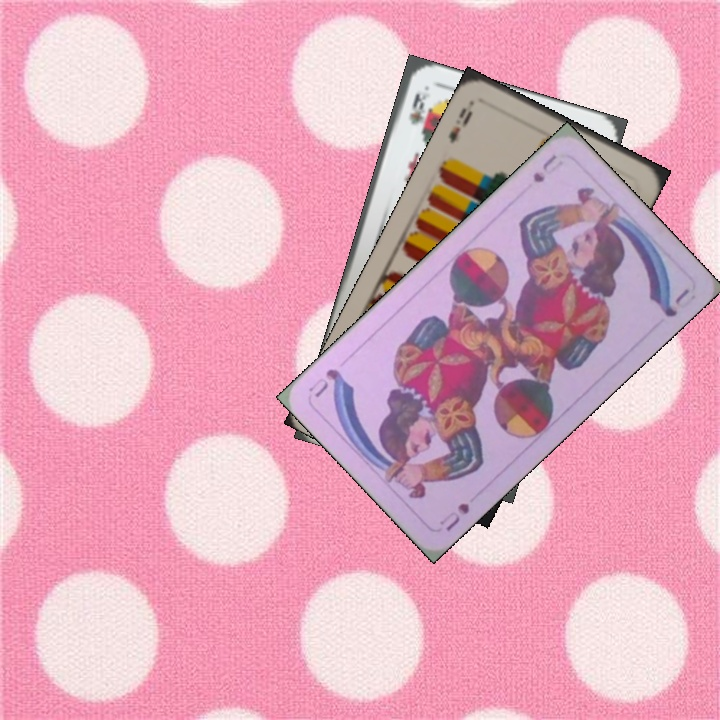E9: (444, 97, 477, 146)
SK: (405, 87, 432, 128)
SU: (435, 498, 472, 534), (528, 150, 566, 185)
